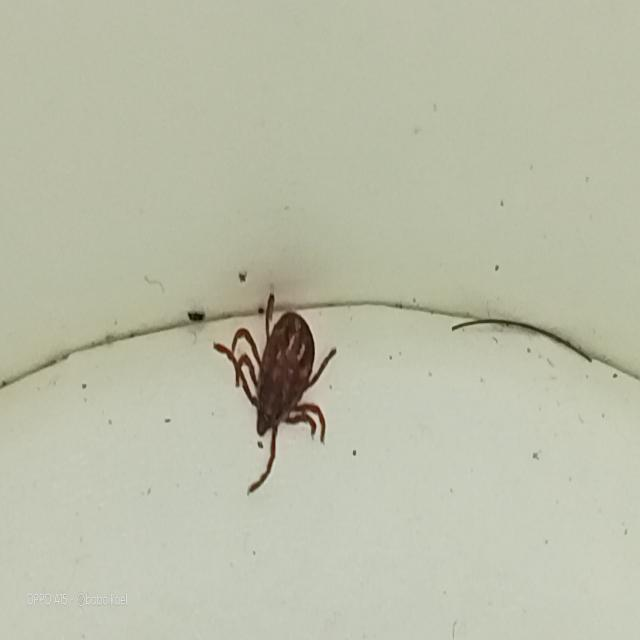Rhipicephalus Sanguineus-M: (213, 293, 336, 496)
